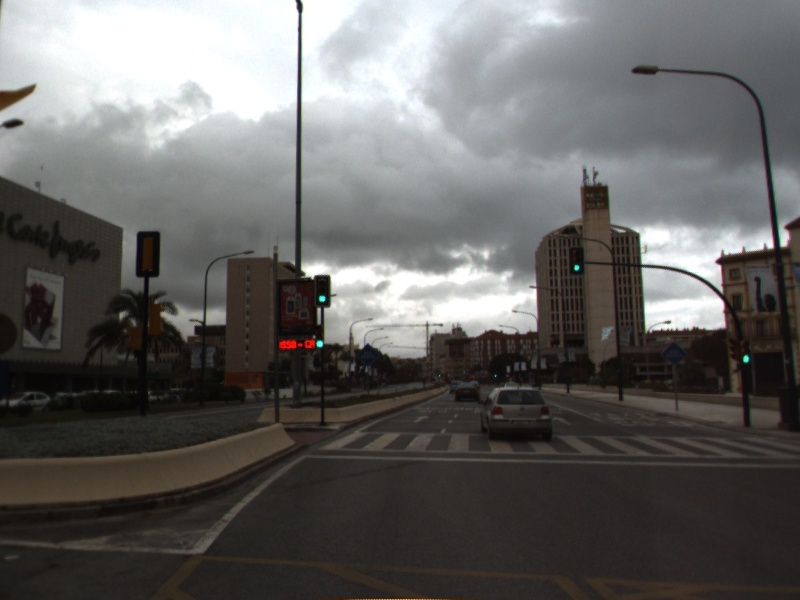STRAIGHT: (550, 414, 574, 428), (411, 413, 431, 425)
